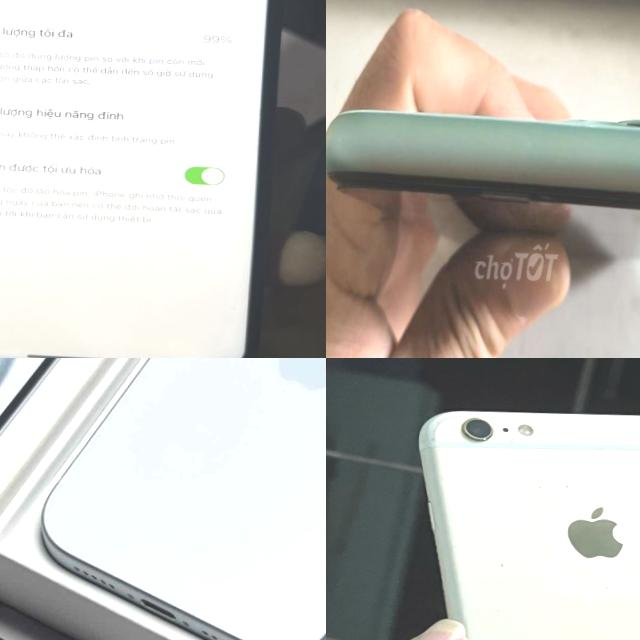gen_11: (0, 0, 289, 358), (326, 85, 640, 247)
gen_15: (27, 358, 326, 640)
gen_6: (404, 400, 640, 640)
scratch: (420, 410, 517, 452), (524, 474, 584, 516), (483, 548, 555, 572)
